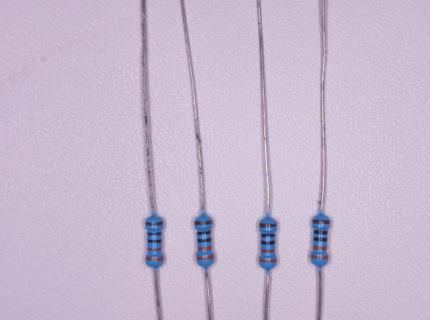Black band: (314, 237, 327, 242), (148, 239, 162, 243), (197, 231, 211, 235), (198, 238, 212, 242), (314, 230, 328, 234), (147, 232, 162, 235), (261, 241, 276, 244), (261, 234, 275, 237)
Brown band: (145, 221, 164, 226), (259, 223, 277, 228), (313, 219, 330, 224), (195, 221, 213, 225)
Orange band: (198, 246, 213, 251), (313, 245, 327, 250), (146, 257, 163, 261), (197, 256, 214, 260), (259, 259, 276, 263), (312, 255, 329, 259), (148, 248, 161, 251), (261, 249, 274, 252)
